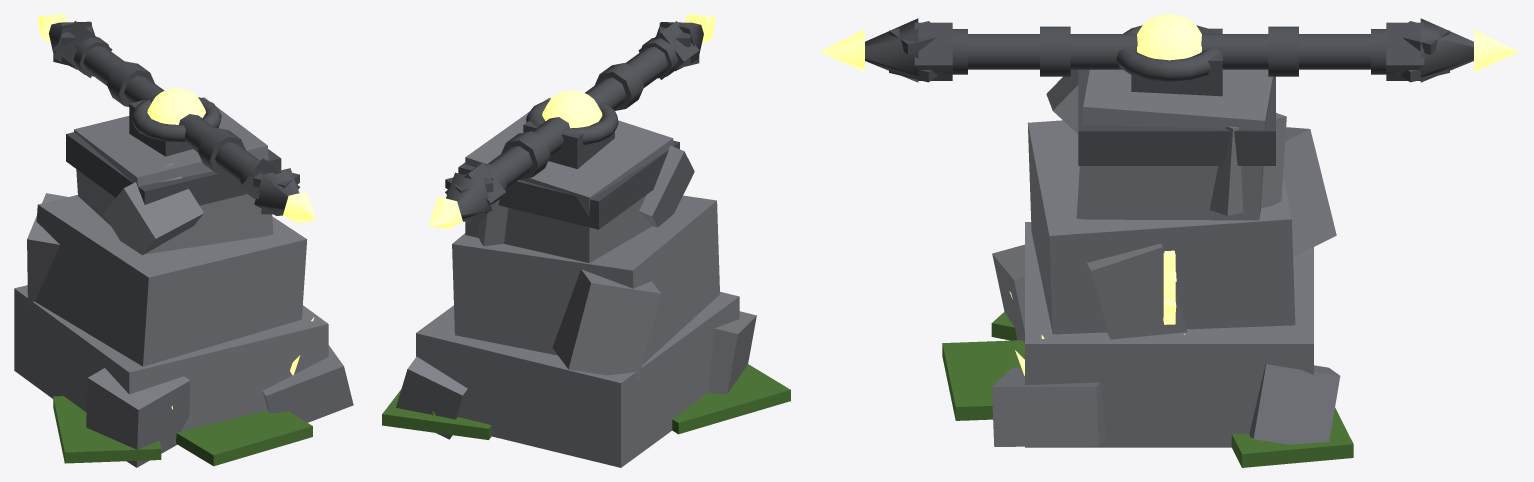
File: node-horizon-shard.glb
3 renders of one model, left to right at view 1: azimuth 30°, elevation 25°; view 2: azimuth 150°, elevation 25°; view 3: azimuth 270°, elevation 25°, orthographic. The views are drawn at different scales.
Parts seen in each view (by area): view 1: Mesh_Rock2_Base, Mesh_Rock1_Base, Mesh_Rock3_Base, Mesh_Rock1_ChipA, Mesh_MossPatch3, Mesh_Rock3_ChipA, Mesh_CollarBand, Mesh_Rock1_ChipC, Mesh_Crossbar, Mesh_MossPatch2, Mesh_Rock2_ChipA, Mesh_GlowCoreFrame (+11 smaller); view 2: Mesh_Rock1_Base, Mesh_Rock2_Base, Mesh_Rock3_Base, Mesh_Rock2_ChipA, Mesh_CollarBand, Mesh_Crossbar, Mesh_MossPatch2, Mesh_Rock1_ChipB, Mesh_Rock1_ChipA, Mesh_Rock3_ChipA, Mesh_MossPatch1, Mesh_GlowCore (+12 smaller); view 3: Mesh_Rock1_Base, Mesh_Rock2_Base, Mesh_Rock3_Base, Mesh_Crossbar, Mesh_CollarBand, Mesh_Rock1_ChipC, Mesh_Rock2_ChipB, Mesh_Rock1_ChipB, Mesh_MossPatch3, Mesh_Rock2_ChipA, Mesh_MossPatch1, Mesh_Rock3_ChipB (+15 smaller).
Part boxes in pixels (left/top/right/bottom): Mesh_Rock2_Base: left=35, top=195, right=307, bottom=366; Mesh_Rock1_Base: left=14, top=285, right=328, bottom=443; Mesh_Rock3_Base: left=74, top=97, right=273, bottom=254; Mesh_Rock1_ChipA: left=86, top=368, right=190, bottom=467; Mesh_MossPatch3: left=176, top=410, right=312, bottom=466; Mesh_Rock3_ChipA: left=103, top=162, right=203, bottom=255; Mesh_CollarBand: left=66, top=132, right=281, bottom=205; Mesh_Rock1_ChipC: left=262, top=345, right=353, bottom=422; Mesh_Crossbar: left=83, top=46, right=258, bottom=183; Mesh_MossPatch2: left=53, top=396, right=161, bottom=463; Mesh_Rock2_ChipA: left=27, top=193, right=67, bottom=307; Mesh_GlowCoreFrame: left=131, top=97, right=221, bottom=141; Mesh_Rock1_Base: left=416, top=292, right=739, bottom=467; Mesh_Rock2_Base: left=452, top=195, right=719, bottom=364; Mesh_Rock3_Base: left=465, top=98, right=673, bottom=263; Mesh_Rock2_ChipA: left=552, top=269, right=660, bottom=379; Mesh_CollarBand: left=458, top=140, right=679, bottom=229; Mesh_Crossbar: left=488, top=46, right=668, bottom=189; Mesh_MossPatch2: left=672, top=364, right=790, bottom=434; Mesh_Rock1_ChipB: left=396, top=356, right=467, bottom=439; Mesh_Rock1_ChipA: left=708, top=311, right=756, bottom=394; Mesh_Rock3_ChipA: left=628, top=128, right=694, bottom=227; Mesh_MossPatch1: left=382, top=389, right=491, bottom=439; Mesh_GlowCore: left=542, top=90, right=602, bottom=128; Mesh_Rock1_Base: left=1025, top=222, right=1313, bottom=447; Mesh_Rock2_Base: left=1027, top=120, right=1295, bottom=334; Mesh_Rock3_Base: left=1076, top=69, right=1273, bottom=220; Mesh_Crossbar: left=968, top=34, right=1370, bottom=69; Mesh_CollarBand: left=1078, top=69, right=1275, bottom=165; Mesh_Rock1_ChipC: left=991, top=367, right=1105, bottom=446; Mesh_Rock2_ChipB: left=1087, top=243, right=1187, bottom=339; Mesh_Rock1_ChipB: left=1249, top=364, right=1340, bottom=444; Mesh_MossPatch3: left=942, top=340, right=1024, bottom=420; Mesh_Rock2_ChipA: left=1283, top=127, right=1336, bottom=257; Mesh_MossPatch1: left=1231, top=407, right=1353, bottom=467; Mesh_Rock3_ChipB: left=1209, top=113, right=1286, bottom=215.
Size of the model in its own units: 0.5526 by 0.5625 by 0.92.
3 materials, 3 textured.
